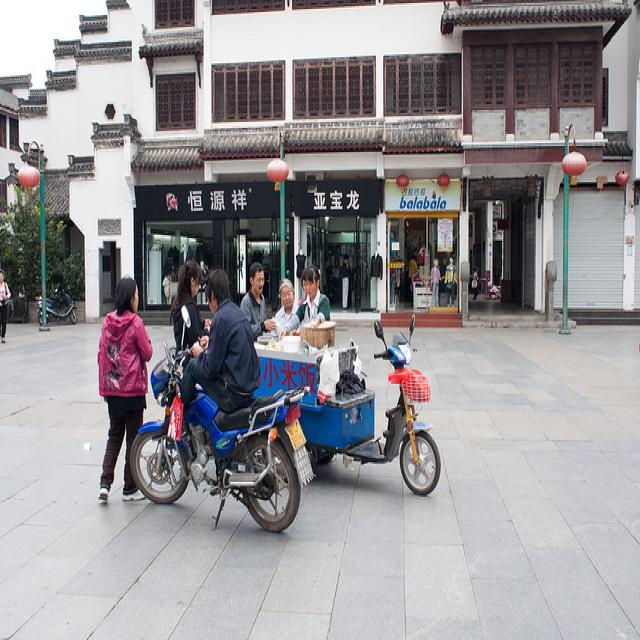motor: (130, 306, 314, 535), (293, 315, 445, 498), (35, 290, 77, 325)
